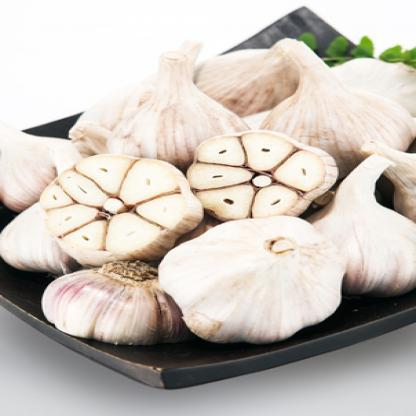garlic: (254, 34, 414, 161), (169, 228, 336, 341), (84, 56, 244, 159), (300, 160, 415, 298), (189, 131, 333, 235), (43, 162, 193, 258), (63, 264, 182, 350), (190, 43, 307, 109)
